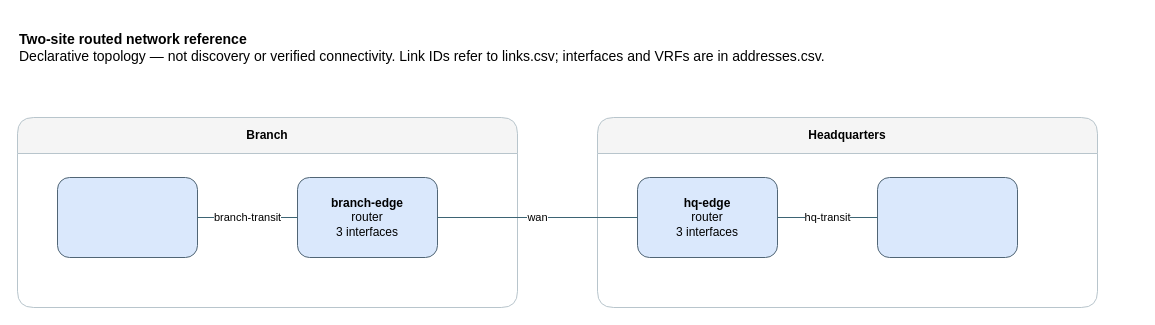
The diagram is 1155 pixels wide and 325 high, and some of its shapes have lost their labels. Each missing label, with the box of its shape:
branch-core router 2 interfaces: (56, 176, 198, 258)
hq-core router 2 interfaces: (876, 176, 1018, 258)
